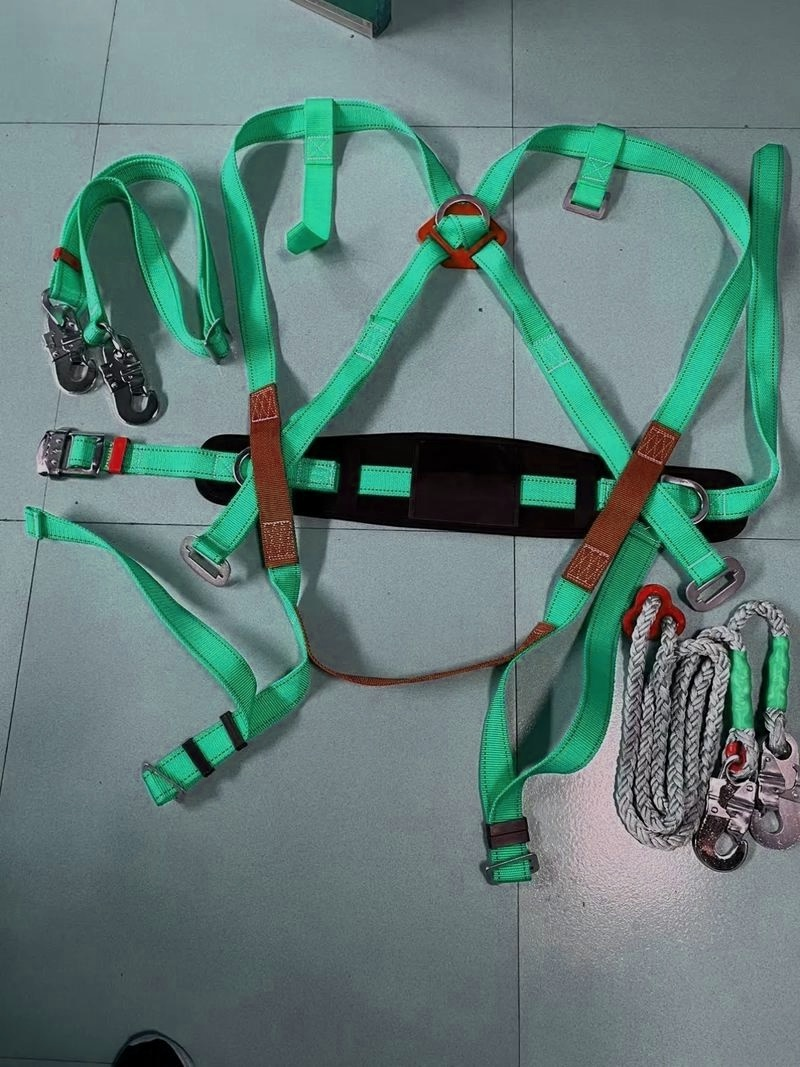safety belt: (21, 110, 784, 861)
